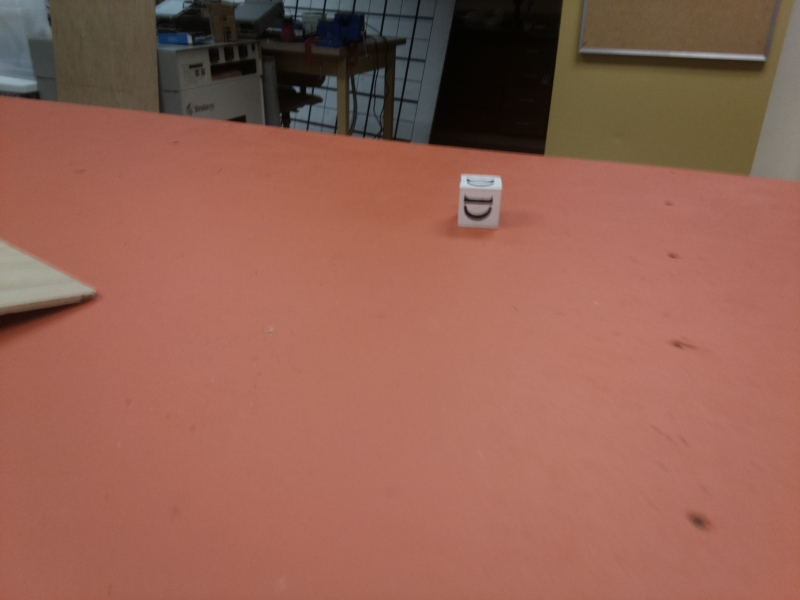blockD: (458, 169, 501, 228)
slope: (1, 231, 103, 324)
